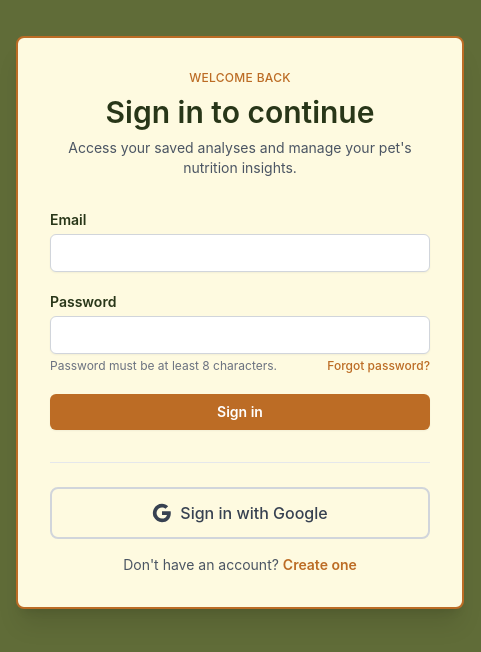
LoginView › validates email and password fields on submit
The image size is (481, 652).
Click the button "Sign in". click: (240, 412)
box: [50, 394, 430, 430]
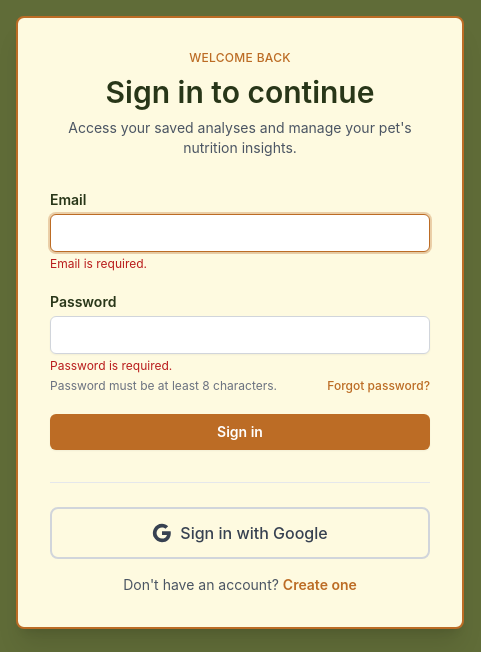
Result: the text "Email is required." is shown at [50, 256, 147, 270]
Result: the text "Password is required." is shown at [50, 358, 172, 372]
